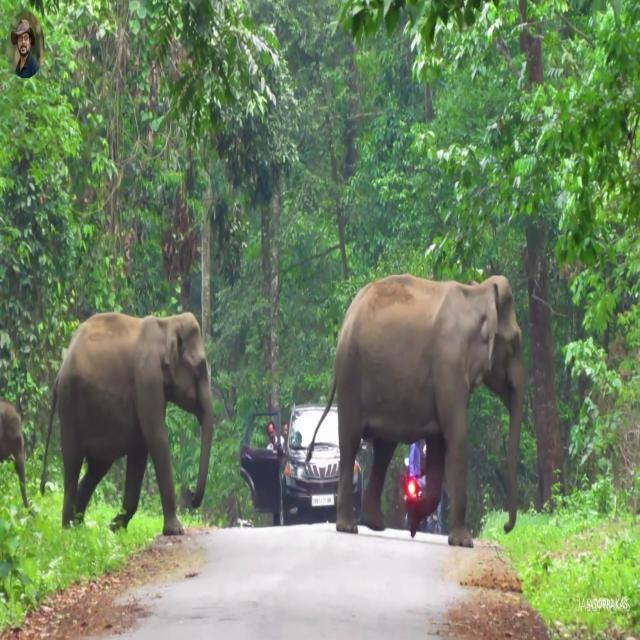Elephant: (310, 272, 524, 548), (39, 310, 214, 536), (0, 398, 30, 508)
